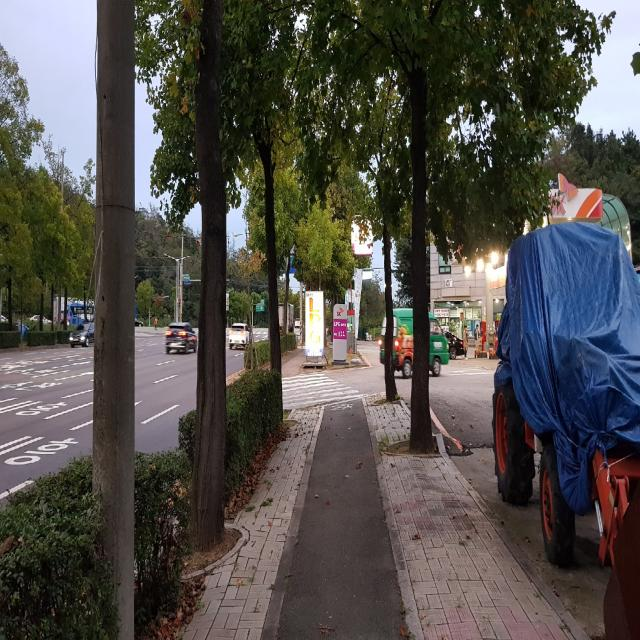횡단보도: (282, 373, 368, 409)
